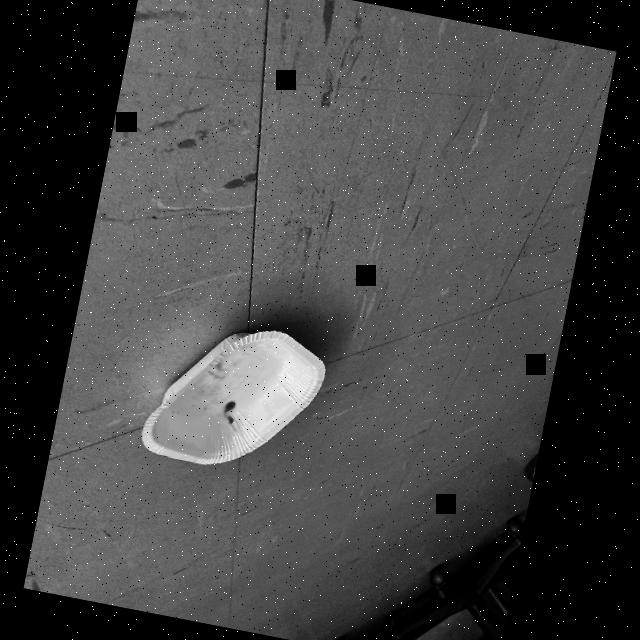cardboard_bowl: (125, 302, 345, 499)
